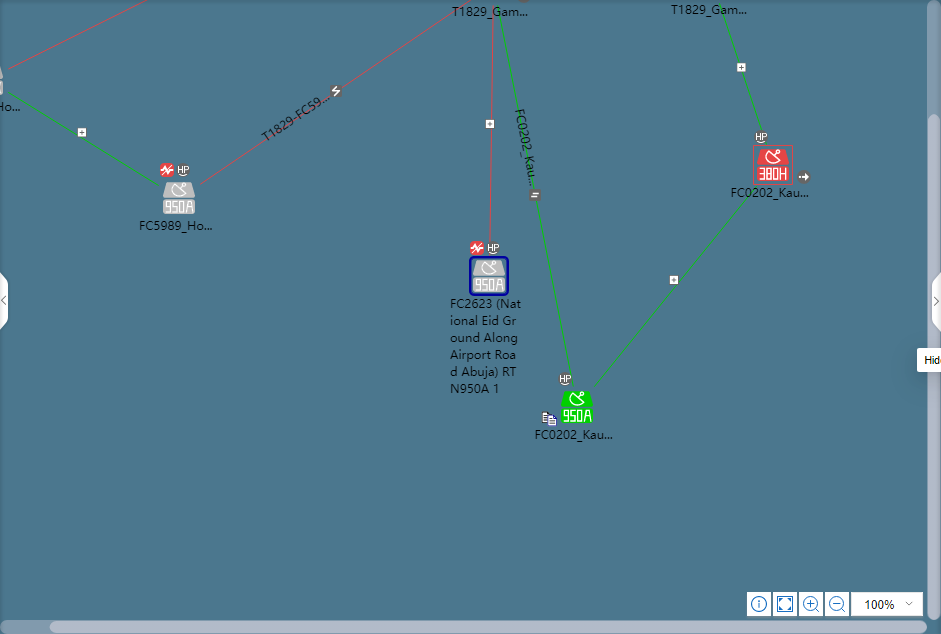Link_Green: (591, 186, 758, 390), (496, 4, 576, 388), (7, 90, 162, 188), (716, 1, 765, 131)
Link_Red: (198, 0, 473, 188), (488, 5, 494, 243)
RTN_Gray: (471, 259, 506, 295), (163, 182, 194, 214)
RTN_Green: (561, 392, 592, 423)
RTN_Red: (756, 148, 791, 183)
